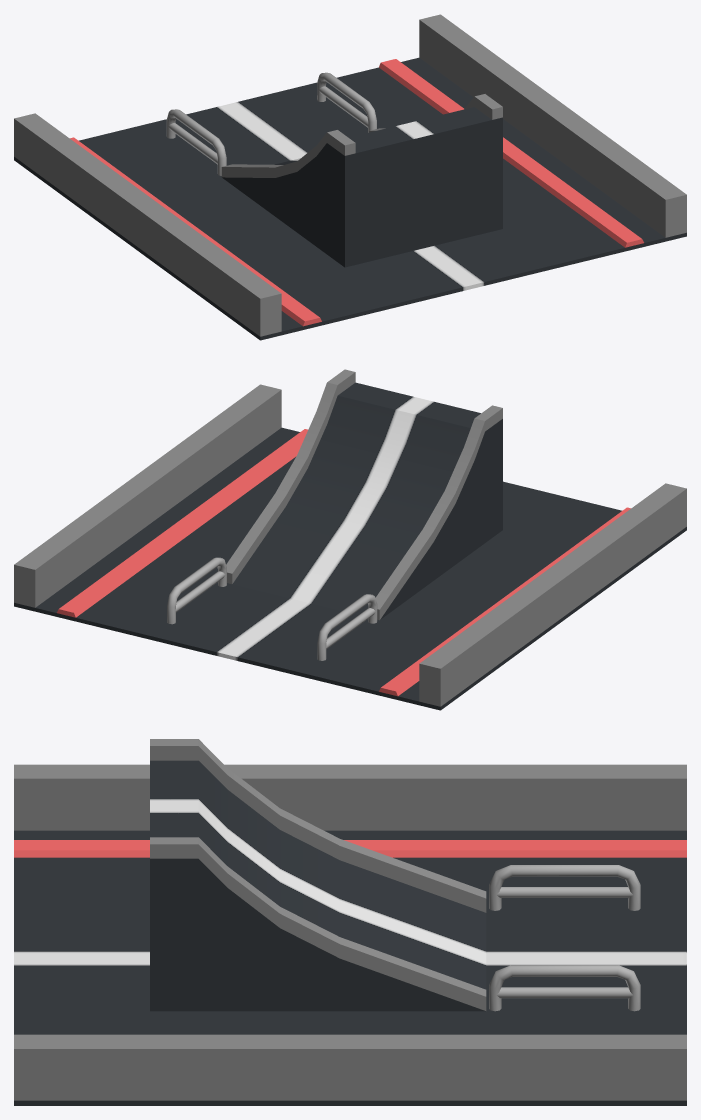
The model's file is kartkids_base_trk_490_jmp_02_mid_50pct_railed_1x1.gltf.
3 renders of one model, top to bottom at view 1: azimuth 30°, elevation 25°; view 2: azimuth 150°, elevation 25°; view 3: azimuth 270°, elevation 25°, orthographic. The views are drawn at different scales.
Parts seen in each view (by area): view 1: kartkids_base_trk_490_jmp_02_mid_50pct_railed_1x1.002, kartkids_base_trk_490_jmp_02_mid_50pct_railed_1x1.001, kartkids_base_trk_490_jmp_02_mid_50pct_railed_1x1; view 2: kartkids_base_trk_490_jmp_02_mid_50pct_railed_1x1.002, kartkids_base_trk_490_jmp_02_mid_50pct_railed_1x1.001, kartkids_base_trk_490_jmp_02_mid_50pct_railed_1x1; view 3: kartkids_base_trk_490_jmp_02_mid_50pct_railed_1x1, kartkids_base_trk_490_jmp_02_mid_50pct_railed_1x1.002, kartkids_base_trk_490_jmp_02_mid_50pct_railed_1x1.001.
Boxes of the visible parts, <box> form: kartkids_base_trk_490_jmp_02_mid_50pct_railed_1x1.002: <box>14,57,686,340</box>; kartkids_base_trk_490_jmp_02_mid_50pct_railed_1x1.001: <box>166,72,502,267</box>; kartkids_base_trk_490_jmp_02_mid_50pct_railed_1x1: <box>14,14,686,336</box>; kartkids_base_trk_490_jmp_02_mid_50pct_railed_1x1.002: <box>14,427,686,710</box>; kartkids_base_trk_490_jmp_02_mid_50pct_railed_1x1.001: <box>167,369,502,660</box>; kartkids_base_trk_490_jmp_02_mid_50pct_railed_1x1: <box>14,384,686,706</box>; kartkids_base_trk_490_jmp_02_mid_50pct_railed_1x1: <box>14,764,686,1100</box>; kartkids_base_trk_490_jmp_02_mid_50pct_railed_1x1.002: <box>14,830,686,1105</box>; kartkids_base_trk_490_jmp_02_mid_50pct_railed_1x1.001: <box>150,739,640,1011</box>.
Size of the model in its own units: 10 by 2.82 by 10.
5 materials, 1 textured.
